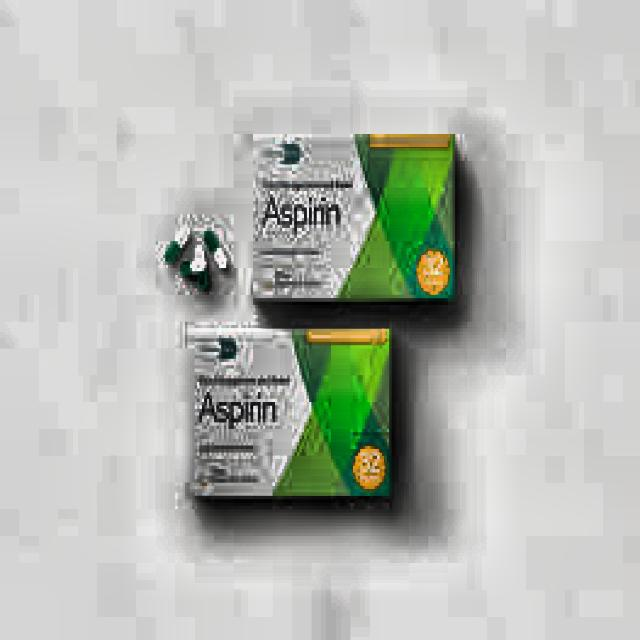Aspirin: (186, 324, 389, 499), (254, 135, 456, 298)
